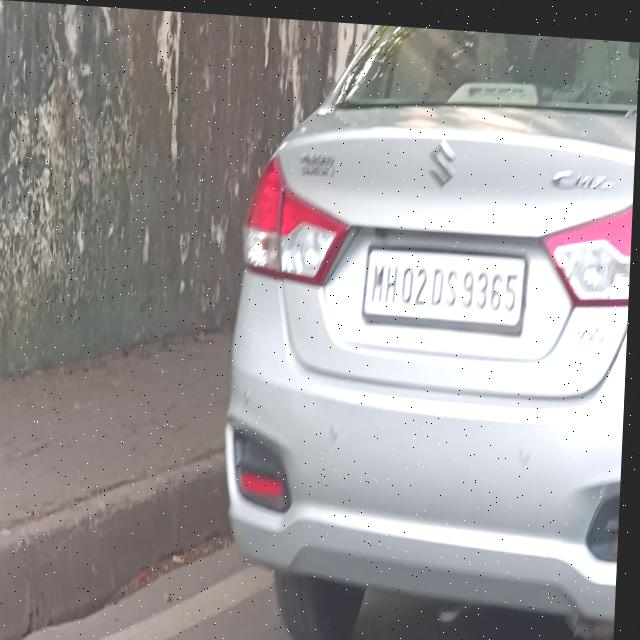plate: (361, 227, 536, 335)
